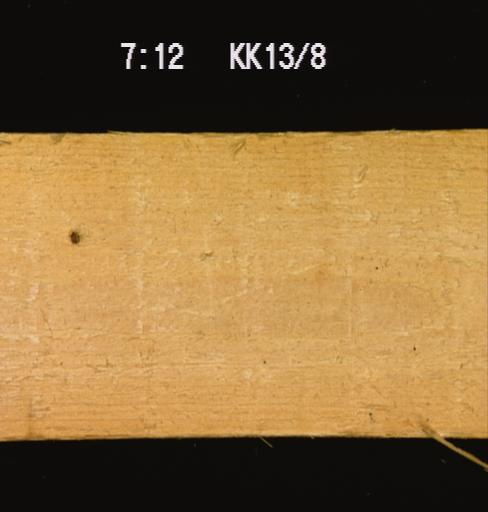small_knot: (66, 226, 80, 247)
